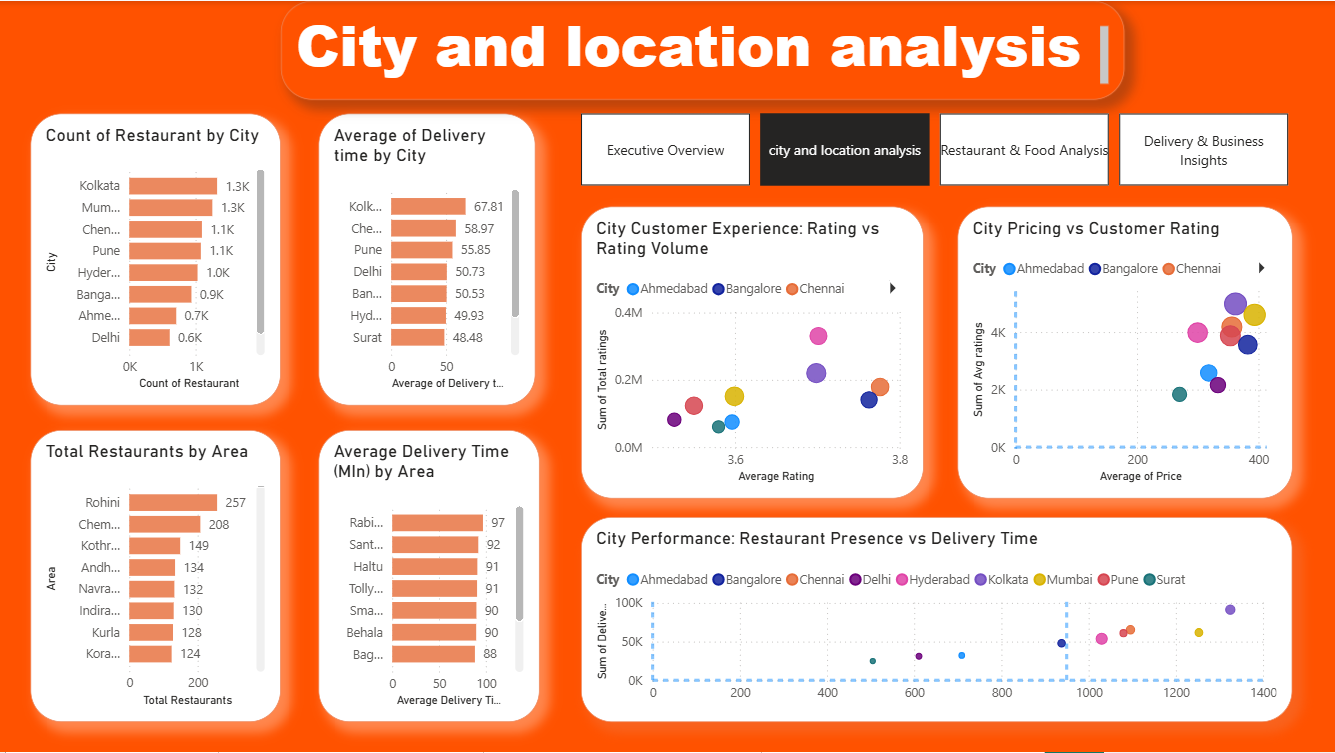

The page's visual inventory and layout, read from the dashboard file:
{"tool":"powerbi","page":{"name":"city and location analysis","canvas":[1280,720],"ordinal":1},"visuals":[{"type":"clusteredBarChart","fields":{"Category":["swiggy_data.City"],"Y":["Count(swiggy_data.Restaurant)"]},"box":[30.2,107.7,240,279.7],"z":0},{"type":"clusteredBarChart","fields":{"Category":["swiggy_data.City"],"Y":["Avg(swiggy_data.Delivery time)"]},"box":[306.1,107.7,207.9,279.7],"z":1000},{"type":"clusteredBarChart","fields":{"Category":["swiggy_data.Area"],"Y":["swiggy_data.Total Restaurants"]},"box":[30.2,412,240,279.7],"z":2000},{"type":"clusteredBarChart","fields":{"Category":["swiggy_data.Area"],"Y":["swiggy_data.Average Delivery Time"]},"box":[306.1,412,212,280],"z":3000},{"type":"scatterChart","title":"City Performance: Restaurant Presence vs Delivery Time","fields":{"X":["swiggy_data.Restaurant"],"Y":["Sum(swiggy_data.Delivery time)"],"Size":["Sum(swiggy_data.Total ratings)"],"Series":["swiggy_data.City"]},"box":[557.5,495.1,682.2,196.5],"z":4000},{"type":"scatterChart","title":"City Customer Experience: Rating vs Rating Volume","fields":{"X":["swiggy_data.Average Rating"],"Y":["Sum(swiggy_data.Total ratings)"],"Series":["swiggy_data.City"],"Size":["Count(swiggy_data.Restaurant)"]},"box":[557.5,196.5,328.8,279.7],"z":5000},{"type":"scatterChart","title":"City Pricing vs Customer Rating","fields":{"Y":["Sum(swiggy_data.Avg ratings)"],"Series":["swiggy_data.City"],"Size":["Count(swiggy_data.Restaurant)"],"X":["Avg(swiggy_data.Price)"]},"box":[918.4,196.5,321.3,279.7],"z":6000},{"type":"textbox","box":[270.2,0,808.8,94.5],"z":7000},{"type":"pageNavigator","box":[557.5,107.7,678.4,69.9],"z":8000}]}

Visuals, with their boxes in screenshot pixels (x1, y1, x2, y2), scaled from the page's 1280x720 canvas onto the 1335x753 screenshot:
clusteredBarChart - swiggy_data.City x Count(swiggy_data.Restaurant): bbox=(31, 113, 282, 405)
clusteredBarChart - swiggy_data.City x Avg(swiggy_data.Delivery time): bbox=(319, 113, 536, 405)
clusteredBarChart - swiggy_data.Area x swiggy_data.Total Restaurants: bbox=(31, 431, 282, 723)
clusteredBarChart - swiggy_data.Area x swiggy_data.Average Delivery Time: bbox=(319, 431, 540, 724)
"City Performance: Restaurant Presence vs Delivery Time" scatterChart: bbox=(581, 518, 1293, 723)
"City Customer Experience: Rating vs Rating Volume" scatterChart: bbox=(581, 206, 924, 498)
"City Pricing vs Customer Rating" scatterChart: bbox=(958, 206, 1293, 498)
textbox: bbox=(282, 0, 1125, 99)
pageNavigator: bbox=(581, 113, 1289, 186)
